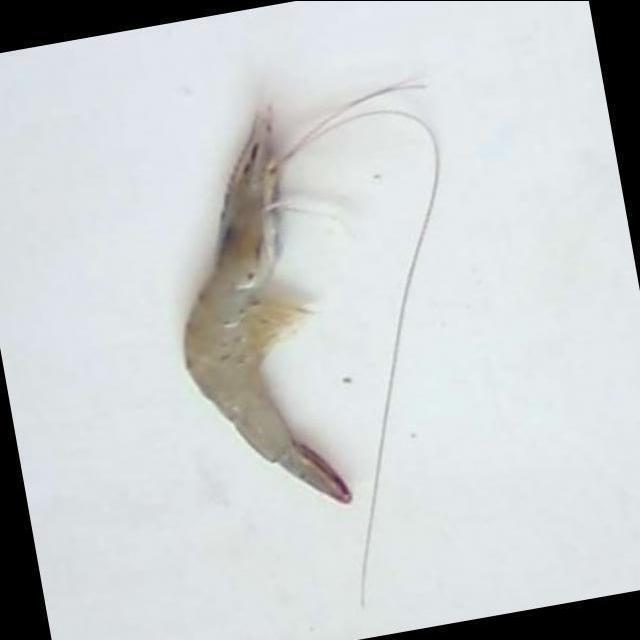shrimp: (185, 110, 350, 501)
